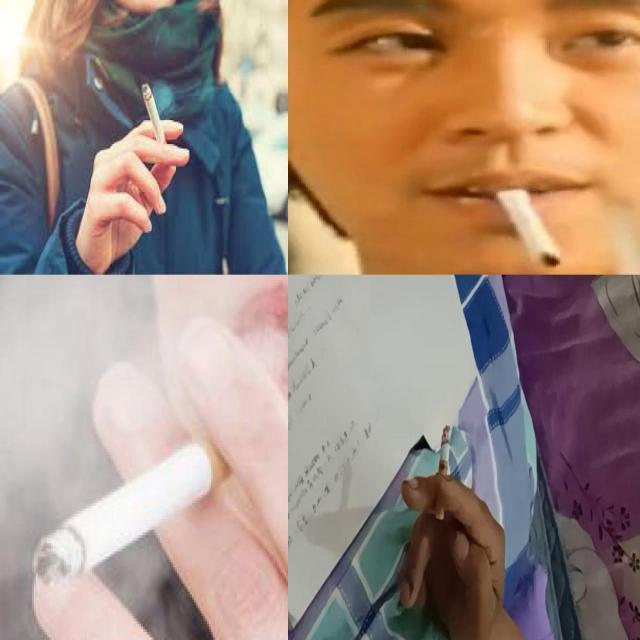smoking: (33, 413, 253, 588), (491, 178, 562, 268), (142, 84, 170, 166), (435, 424, 451, 522)
